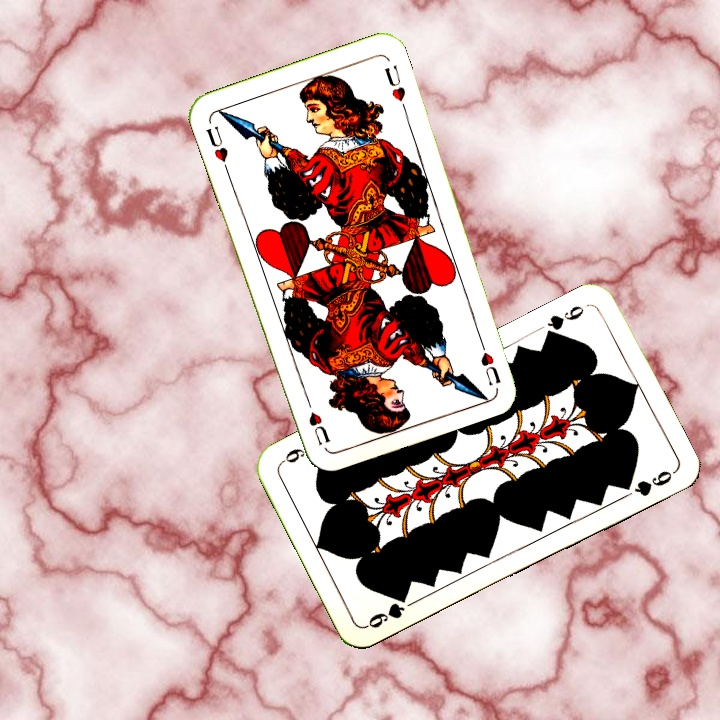G9: (540, 301, 587, 342), (362, 592, 410, 631)
HU: (474, 331, 503, 389), (202, 122, 232, 175)
